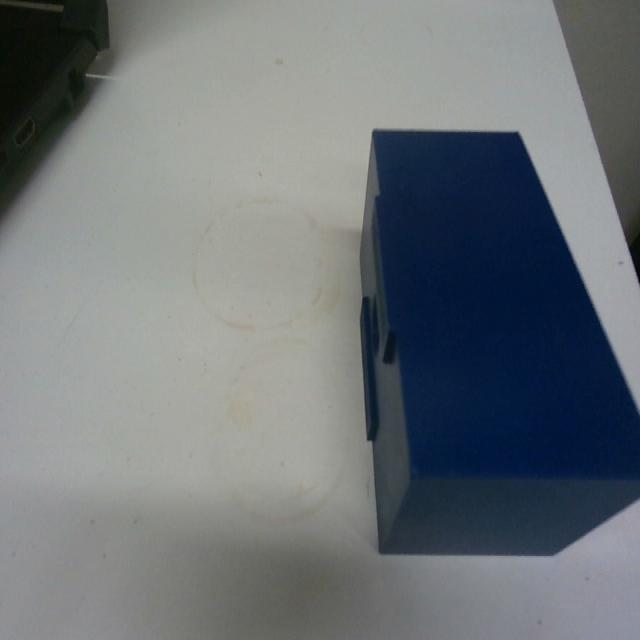Blue Cuboid: (355, 122, 639, 558)
